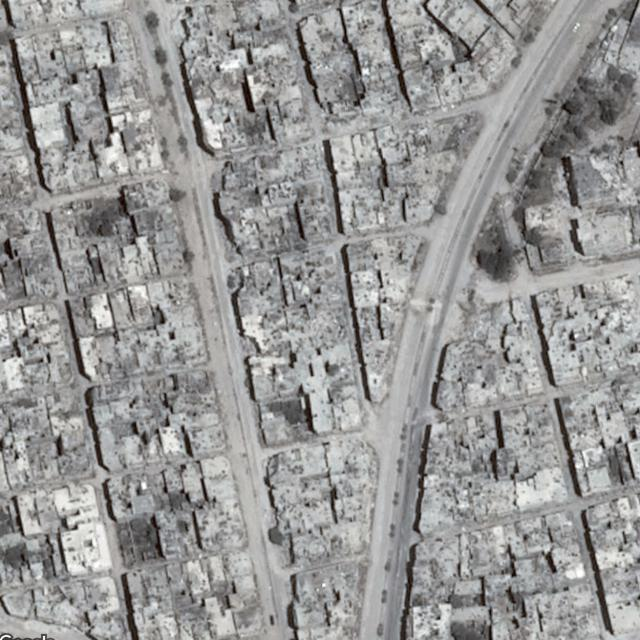damaged_building: (282, 281, 354, 356)
